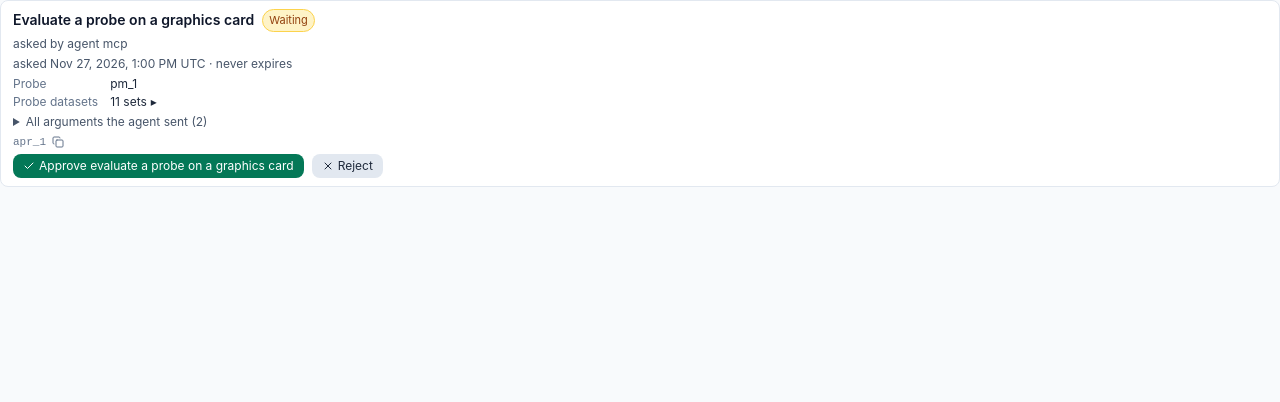
Test: the approval card lists sets one per line, collapsible › the Probe datasets fact: a deleted view keeps its id with "(name not found)"; none is blank
The width and height of the screenshot is (1280, 402).
Click the button "11 sets ▸" at [134, 102], box [110,94,157,110]
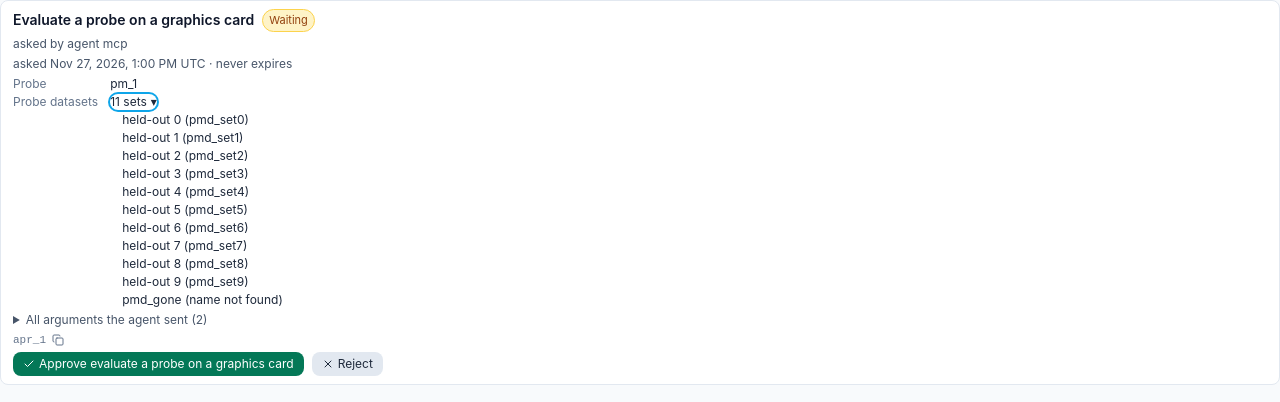
Expected: the list item does not show ""
Expected: the number of list items is 11
Expected: the list item "pmd_gone (name not found)" is shown, [122,292,283,306]
